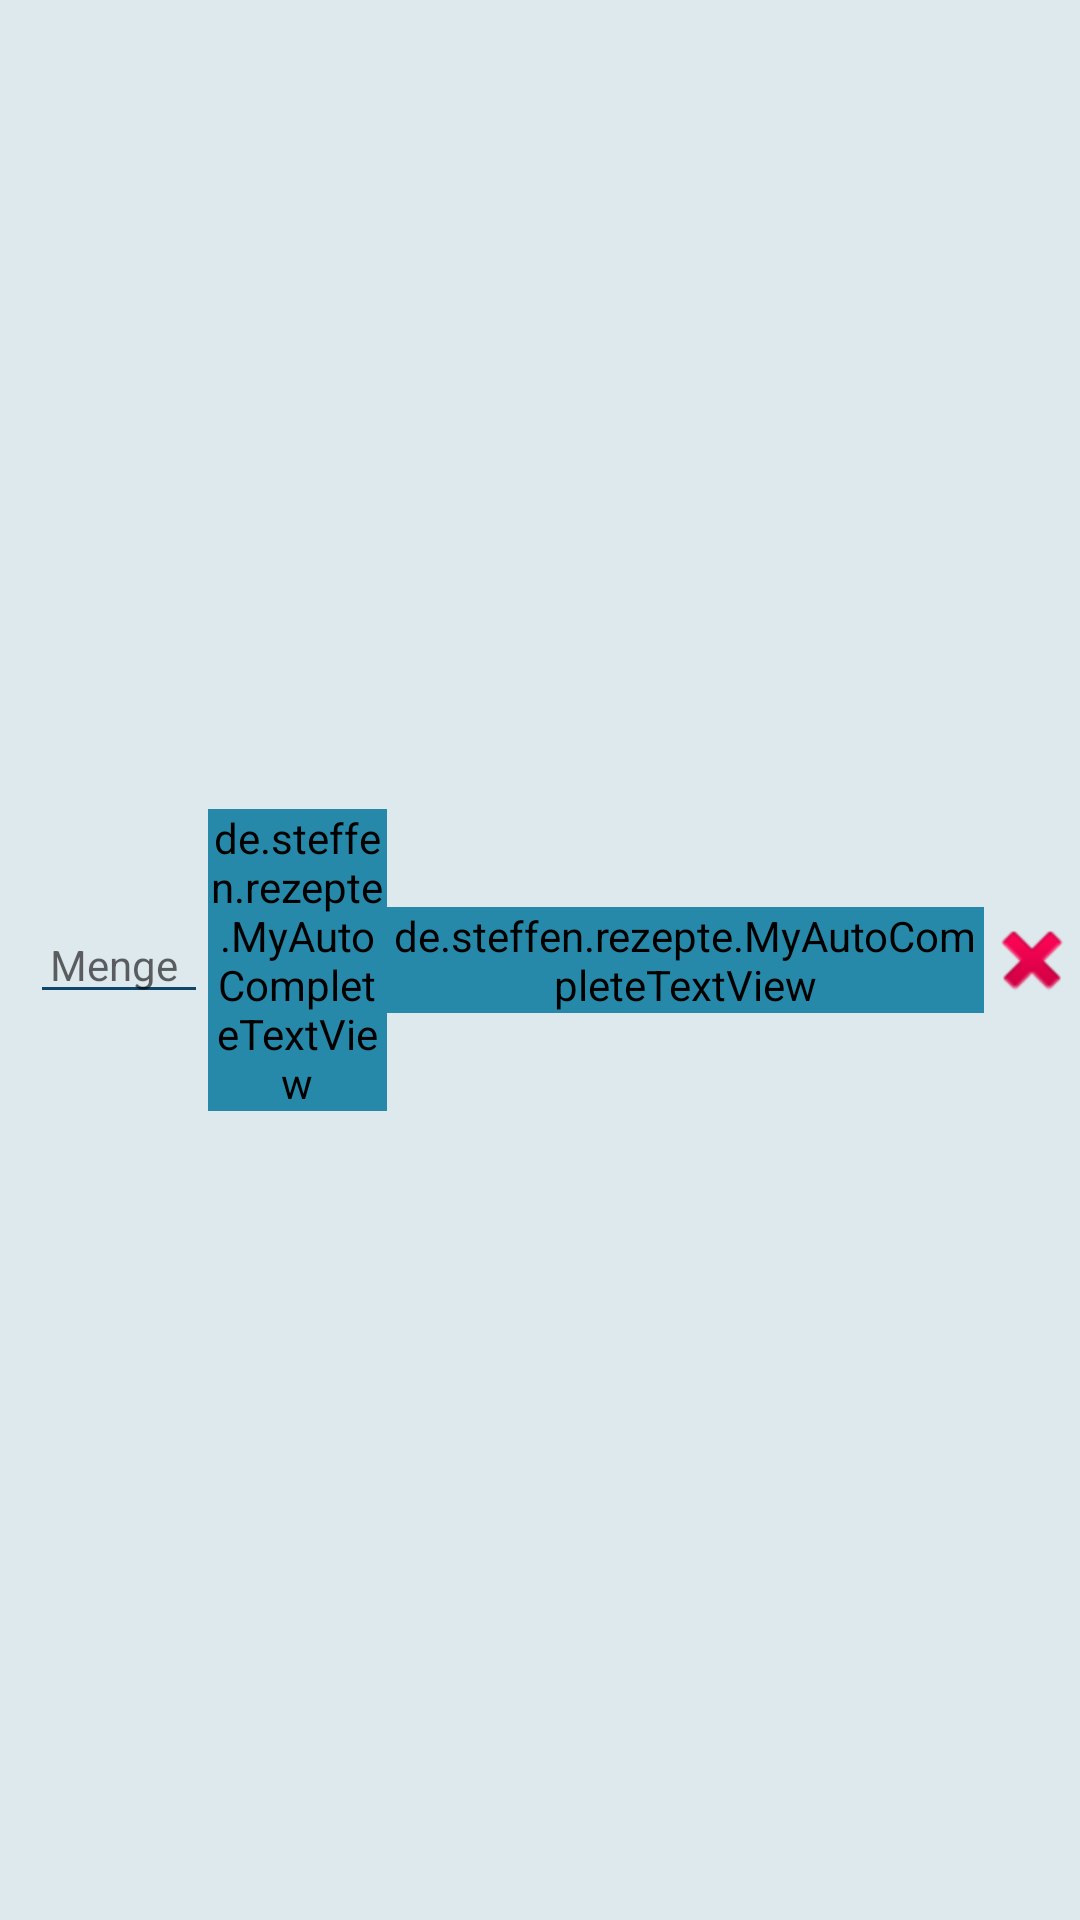

Point at icon controls on the screen. Image size 1080 x 1920, points as [x,y].
delete: [1032,960]
